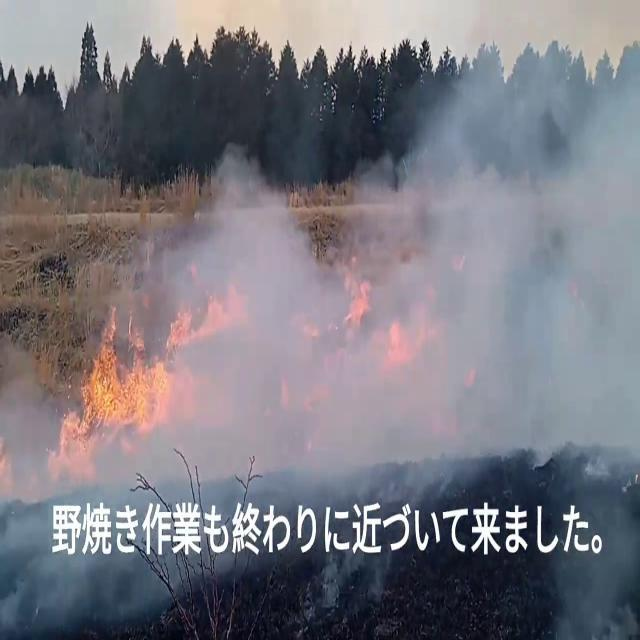Fire: (65, 295, 174, 445)
Smoke: (143, 21, 640, 473)
